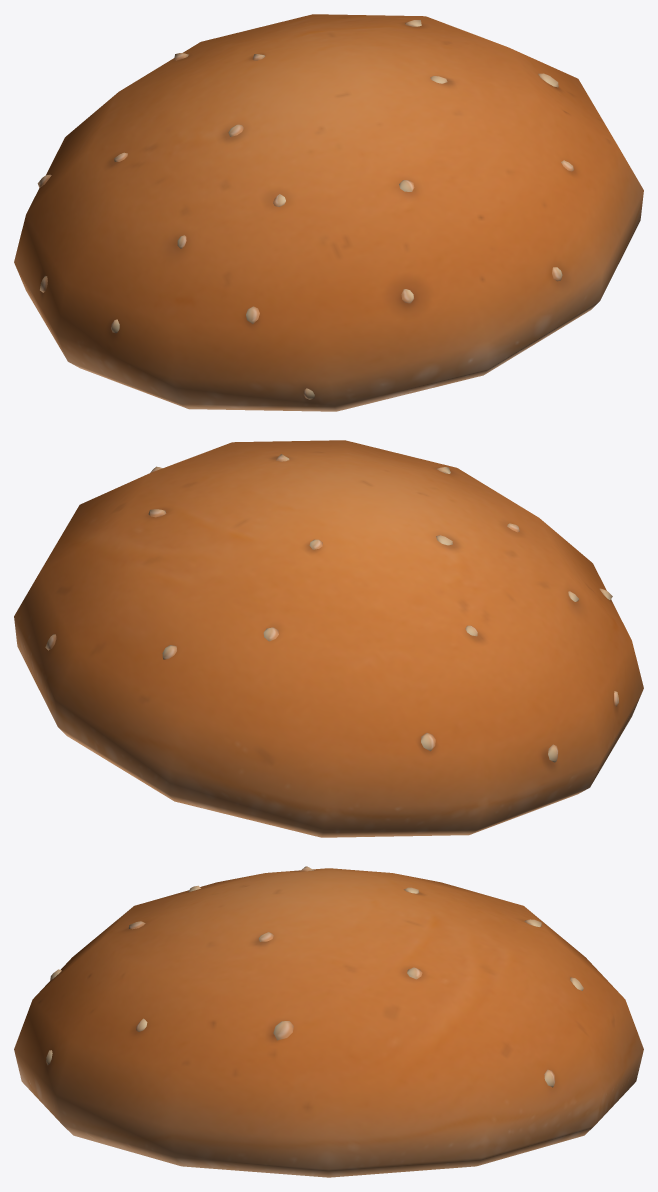
File: burgerBun.glb
3 views of the same model, one above another, from view 1: azimuth 30°, elevation 25°; view 2: azimuth 150°, elevation 25°; view 3: azimuth 270°, elevation 25° (orthographic).
Parts seen in each view (by area): view 1: Hat_burgerBun; view 2: Hat_burgerBun; view 3: Hat_burgerBun.
Part boxes in pixels (x1=…): Hat_burgerBun: x1=14, y1=14, x2=643, y2=411; Hat_burgerBun: x1=14, y1=440, x2=643, y2=837; Hat_burgerBun: x1=14, y1=866, x2=643, y2=1177.
Size of the model in its own units: 1.31 by 0.5519 by 1.32.
Materials: 1 (1 with a texture image).
